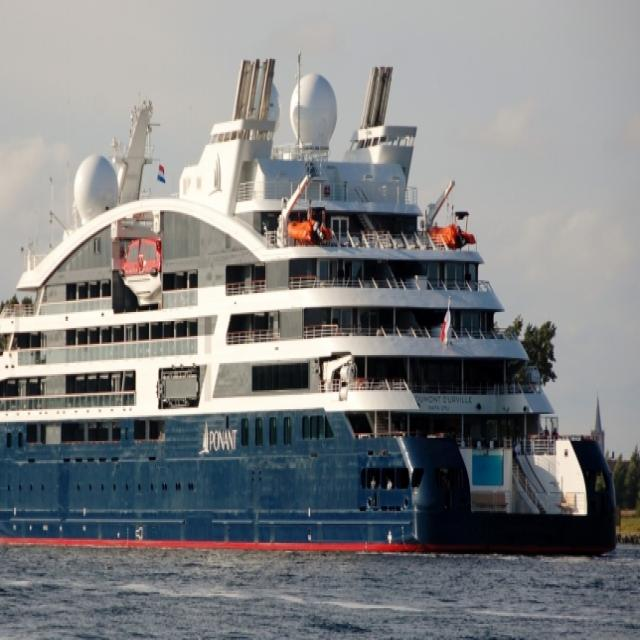cruises: (1, 49, 623, 565)
